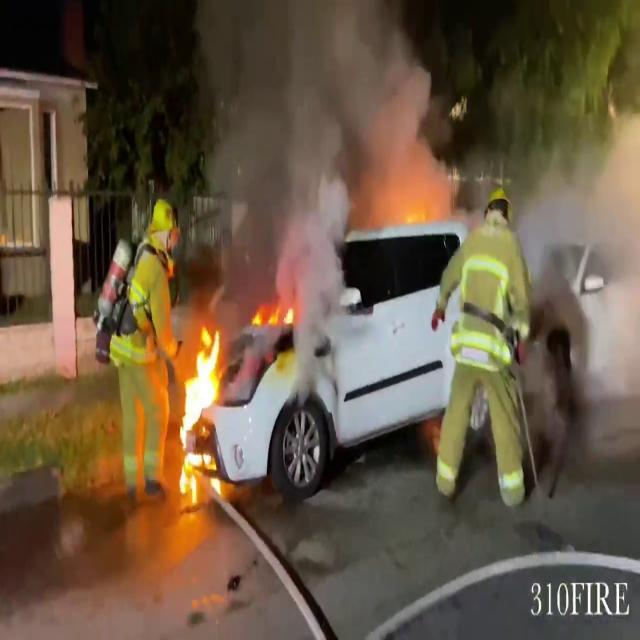Fire: (175, 322, 228, 492), (249, 292, 299, 342)
Smoke: (187, 0, 450, 278)
